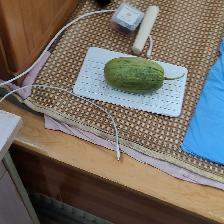gua: (102, 56, 169, 91)
